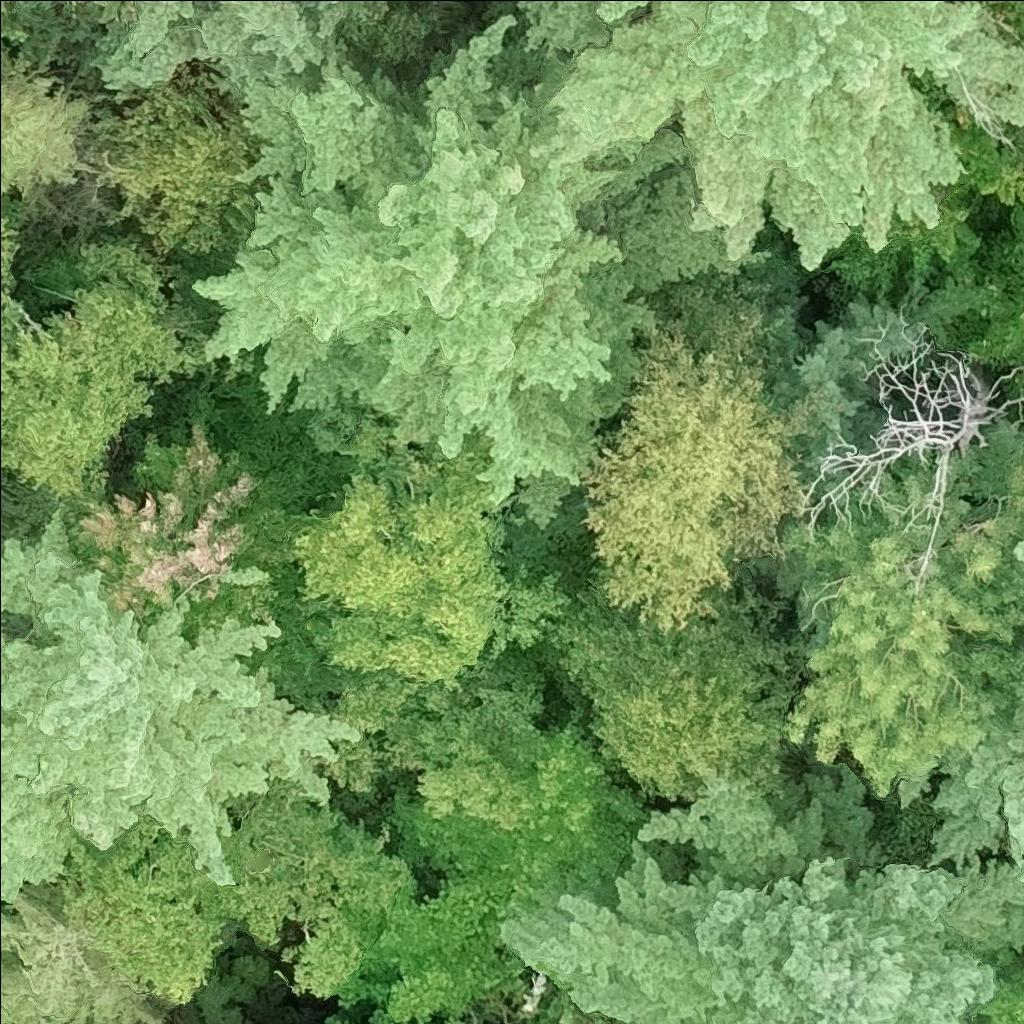crown: (196, 17, 740, 529), (0, 512, 357, 901), (547, 0, 1023, 274), (501, 771, 999, 1023), (776, 420, 1023, 800), (583, 272, 822, 631), (296, 412, 568, 680), (525, 556, 815, 805), (802, 332, 1023, 588), (0, 245, 221, 495), (379, 726, 643, 911), (218, 777, 409, 1001), (820, 71, 1023, 281), (57, 420, 256, 634), (74, 68, 271, 252), (45, 816, 230, 1003), (318, 649, 546, 793), (337, 873, 526, 1023), (0, 878, 164, 1023), (89, 0, 350, 88), (925, 734, 1023, 881), (954, 199, 1023, 369), (0, 82, 94, 194), (944, 850, 1023, 967), (0, 216, 35, 378), (520, 0, 614, 56), (529, 980, 630, 1023), (966, 950, 1023, 1023), (940, 0, 1023, 39), (370, 1005, 391, 1023), (1010, 366, 1023, 392), (1012, 628, 1023, 653), (1011, 537, 1023, 559), (324, 1018, 349, 1023), (472, 1017, 481, 1023), (506, 1017, 511, 1023)
